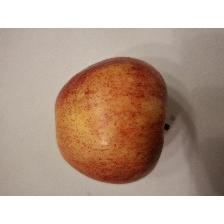Apfel: (51, 52, 177, 186)
